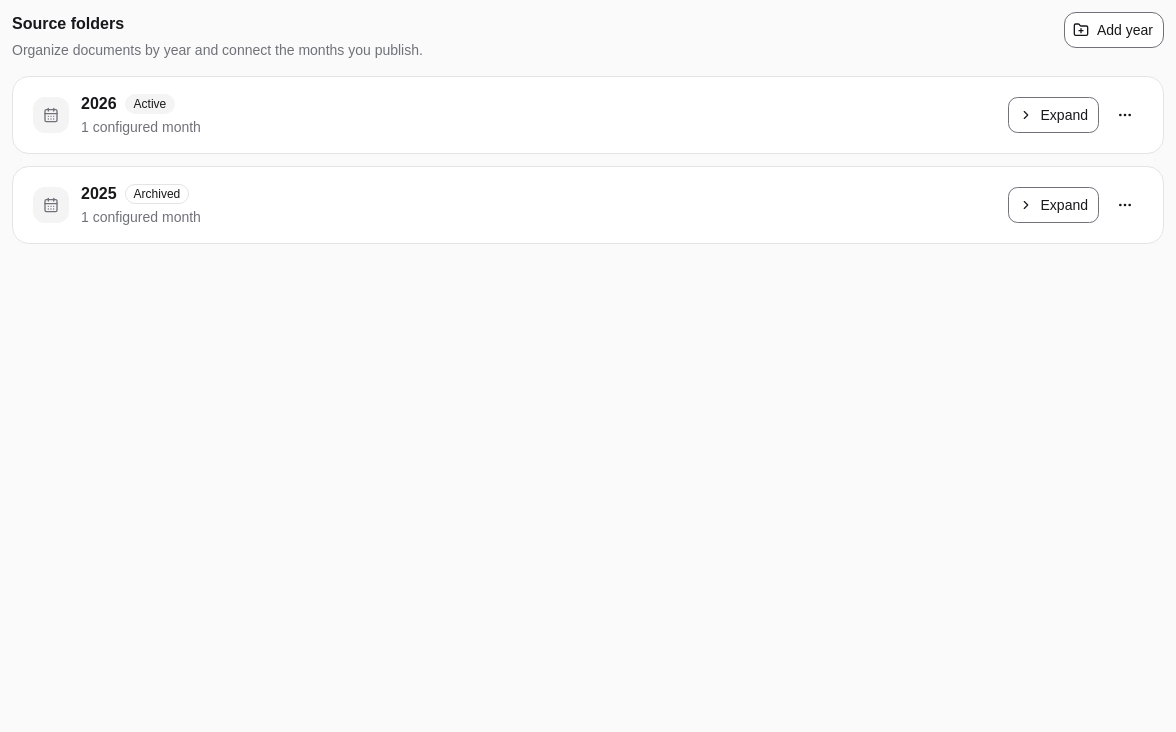
Test case: month source details › keeps the month summary scannable and discloses its source, refresh state, and scoped actions
Click the button with aria-label "Expand 2026" at (1053, 115), box left=1008, top=97, right=1099, bottom=133
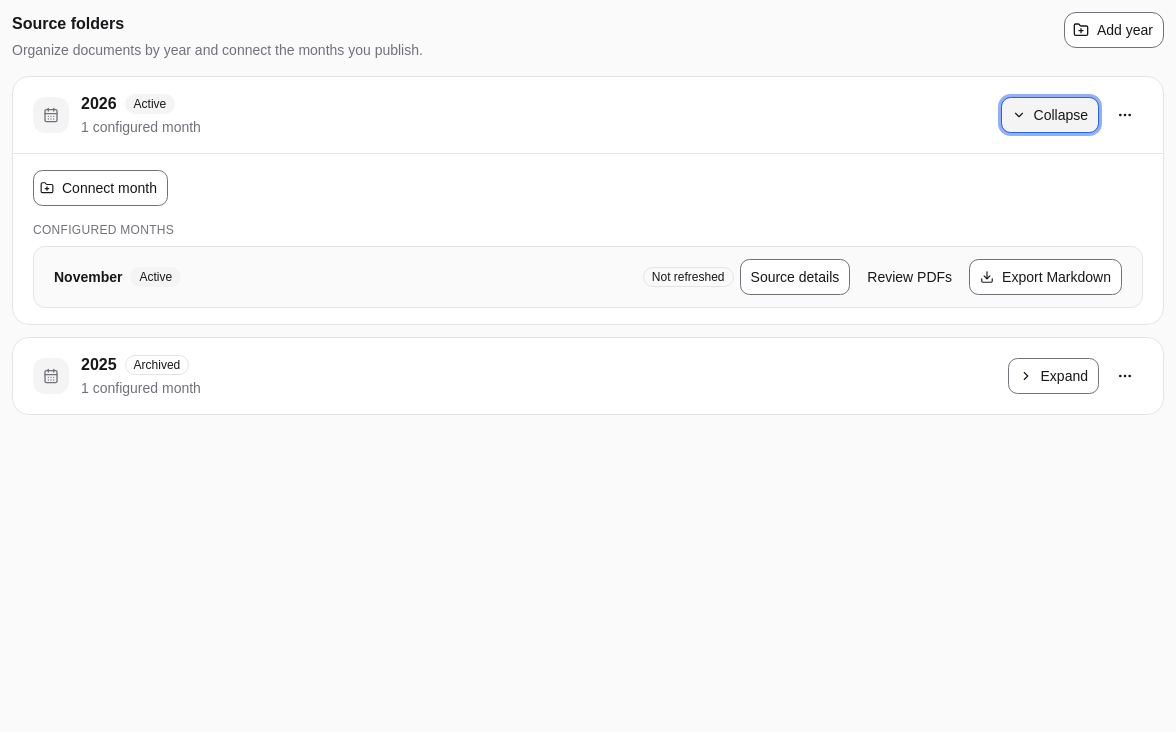
Expected: the heading "November" is shown, left=54, top=267, right=122, bottom=287
Expected: the text "Not refreshed" is shown, left=643, top=267, right=734, bottom=287
Expected: the button "Review PDFs" is shown, left=856, top=259, right=963, bottom=295
Click the button with aria-label "Show source details for November" at (795, 277), box left=740, top=259, right=850, bottom=295
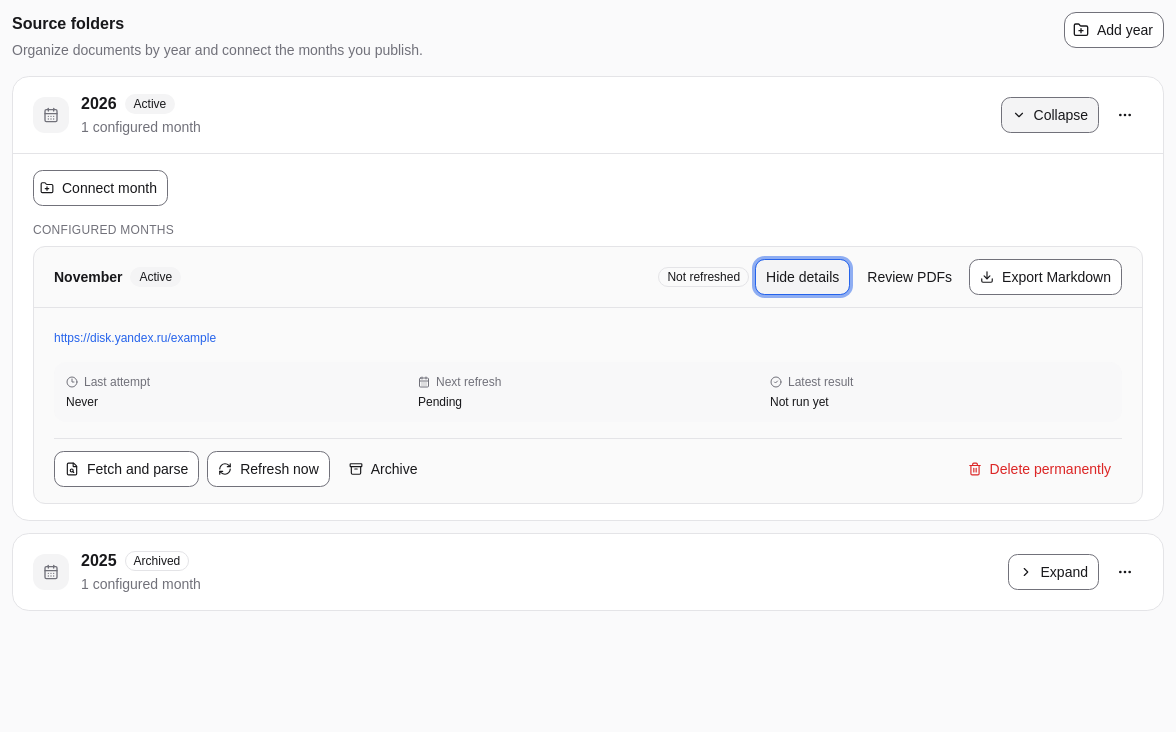
Expected: the button with aria-label "Hide source details for November" is expanded, left=755, top=259, right=850, bottom=295
Expected: the link "https://disk.yandex.ru/example" is shown, left=54, top=331, right=216, bottom=345
Expected: the text "Never" is shown, left=66, top=395, right=98, bottom=409
